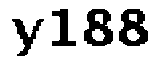1: (48, 7, 78, 48)
8: (117, 7, 150, 51), (82, 6, 113, 48)
y: (11, 18, 46, 59)
